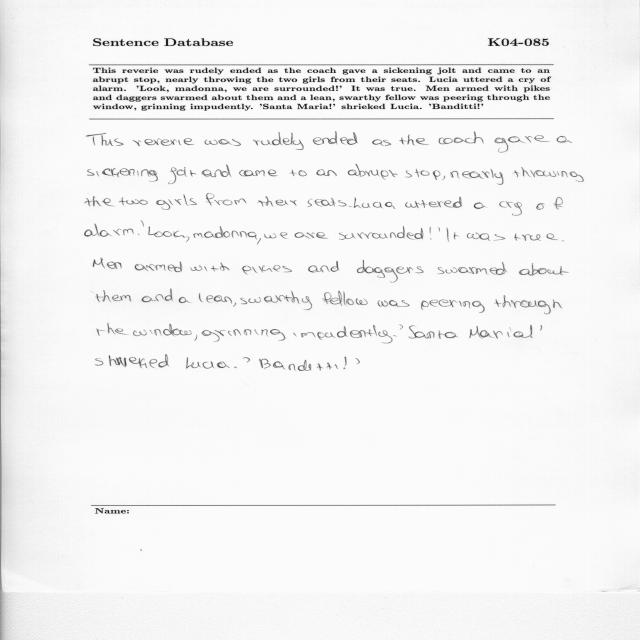word: (293, 325, 392, 343), (357, 260, 424, 283), (494, 296, 562, 315), (248, 291, 312, 310), (339, 226, 423, 240), (202, 329, 286, 342), (513, 167, 584, 182), (495, 135, 550, 153), (88, 168, 158, 182), (96, 355, 169, 368), (259, 359, 338, 371), (470, 324, 533, 339), (253, 132, 304, 150), (438, 262, 508, 275), (194, 226, 258, 239), (421, 300, 485, 313), (348, 164, 398, 180), (133, 324, 192, 336), (322, 291, 368, 306), (462, 169, 504, 185), (156, 194, 197, 210), (85, 224, 134, 237), (519, 263, 568, 276), (409, 326, 458, 339), (313, 131, 358, 145), (405, 197, 462, 208), (439, 132, 484, 145), (186, 357, 230, 369), (199, 293, 236, 307), (135, 262, 182, 273), (242, 265, 292, 275), (133, 138, 195, 146), (86, 133, 124, 146), (206, 194, 247, 206), (354, 197, 395, 209), (168, 167, 196, 184), (406, 169, 445, 180), (258, 196, 297, 207), (96, 290, 131, 302), (97, 323, 129, 336), (148, 227, 185, 238), (142, 289, 173, 302), (202, 165, 231, 178), (308, 261, 339, 273), (514, 233, 558, 241), (308, 198, 347, 207), (536, 197, 563, 210), (191, 263, 230, 272), (499, 201, 522, 216), (467, 232, 505, 241), (93, 258, 122, 269), (399, 135, 429, 145), (85, 196, 114, 206), (239, 170, 278, 177), (204, 139, 241, 146), (294, 232, 328, 239), (119, 198, 148, 206), (377, 300, 410, 307), (447, 227, 459, 242), (264, 232, 287, 239), (316, 169, 337, 176), (372, 140, 391, 147), (557, 136, 572, 143), (290, 170, 307, 176), (474, 202, 486, 209), (179, 297, 190, 303), (450, 171, 459, 178), (241, 298, 248, 304), (344, 357, 347, 369), (243, 358, 250, 363), (355, 358, 360, 364), (257, 238, 261, 245), (430, 227, 432, 240), (399, 325, 403, 330), (141, 221, 144, 227), (186, 237, 189, 243), (194, 335, 197, 341), (541, 325, 543, 331), (438, 228, 440, 232), (393, 335, 397, 337), (530, 336, 533, 338), (349, 206, 352, 207), (235, 367, 238, 368), (138, 234, 140, 235), (562, 241, 565, 241)
